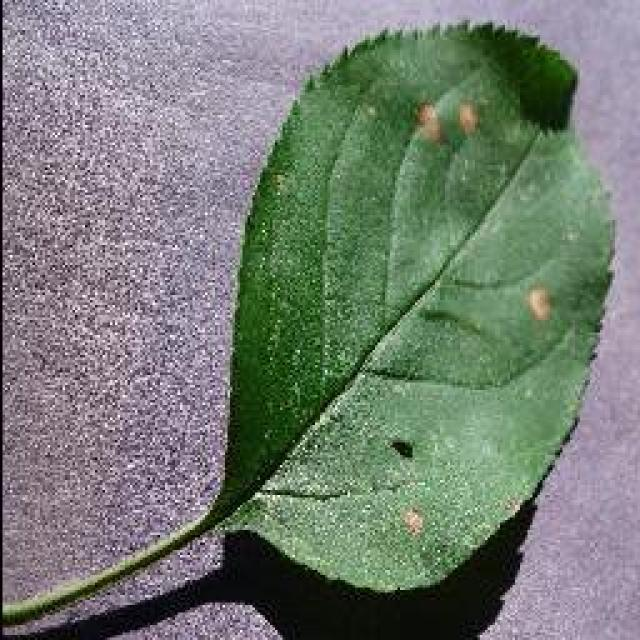Black_rot: (0, 18, 618, 638)
